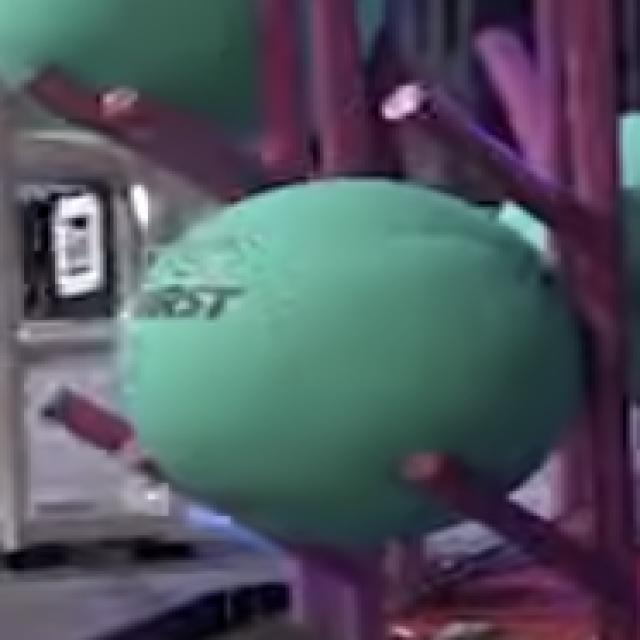Algae: (119, 182, 581, 548), (0, 0, 386, 140), (496, 111, 640, 397)
Reef: (397, 450, 619, 591), (386, 82, 567, 238), (102, 86, 275, 193), (480, 27, 536, 150), (26, 62, 106, 134), (55, 391, 124, 452)
